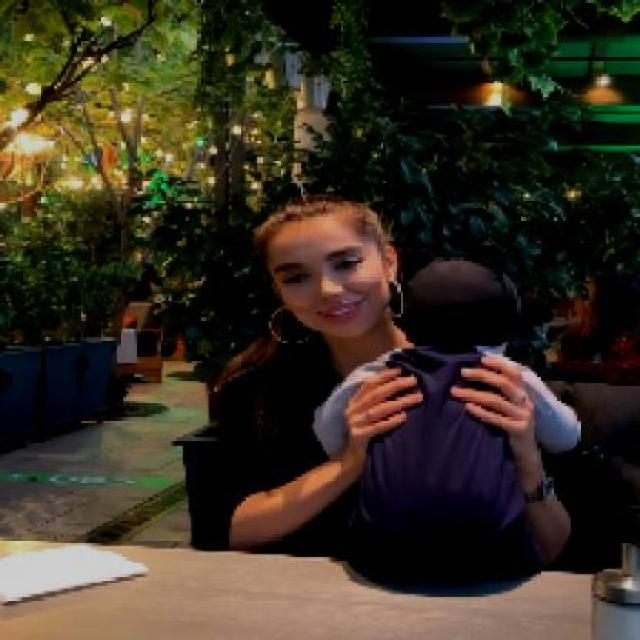adult: (193, 202, 421, 554)
child: (311, 240, 583, 580)
